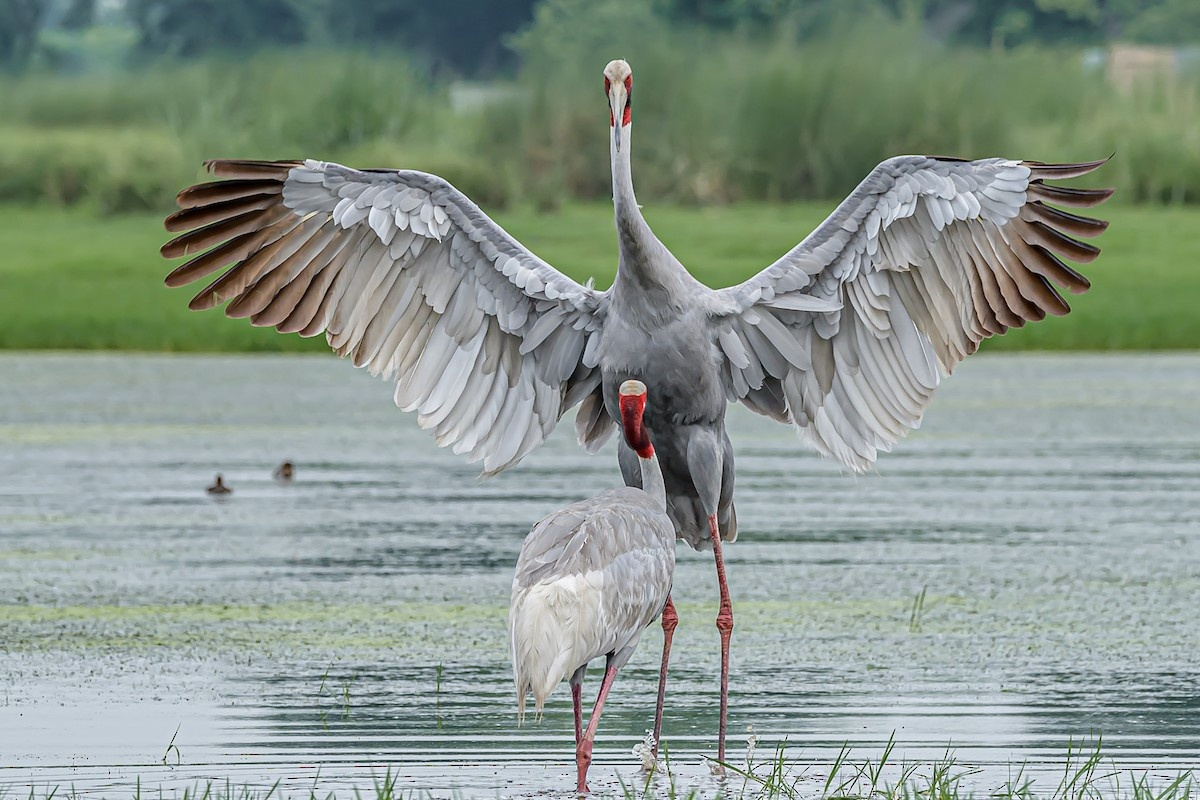crane: (168, 51, 1126, 479), (502, 377, 683, 800)
